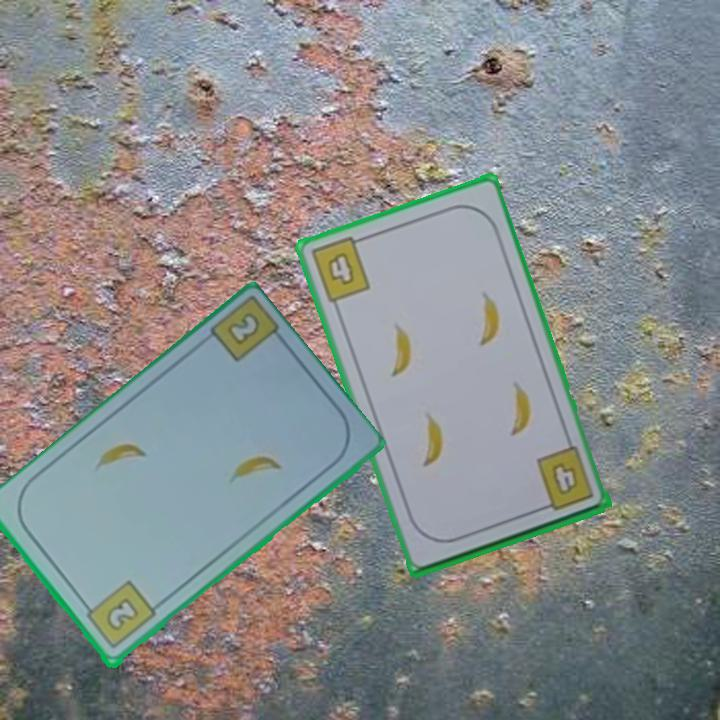2b: (79, 577, 159, 653), (226, 312, 260, 345)
4b: (306, 232, 373, 306), (550, 458, 577, 495)
